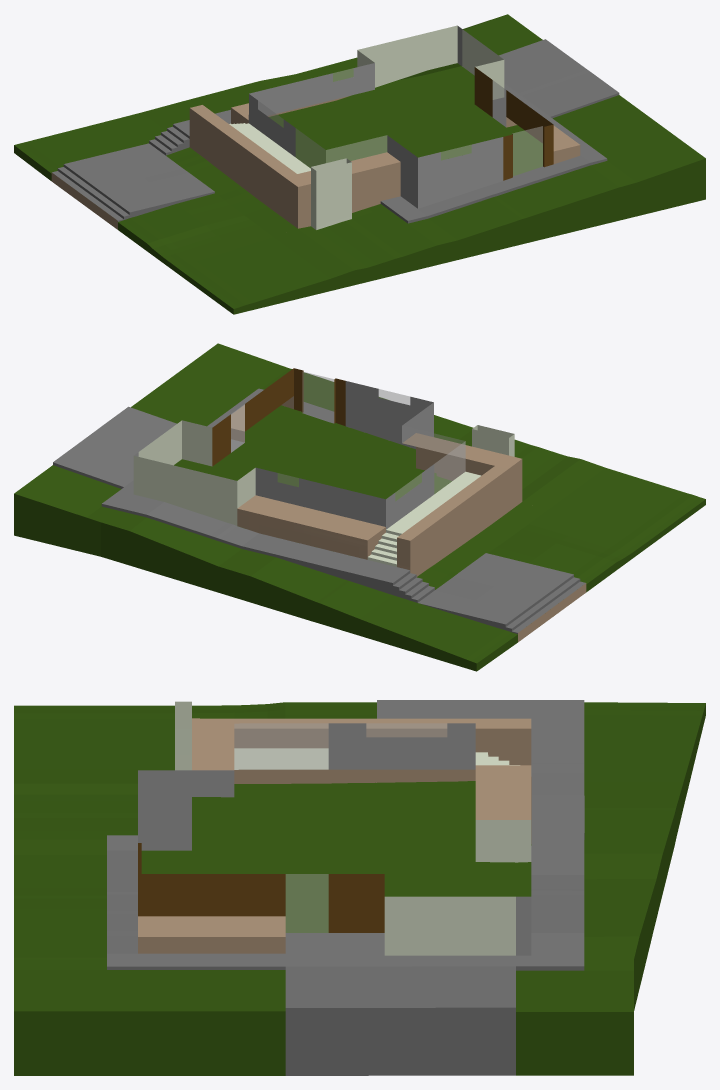
File: casaClim_2ND-FLOOR.glb
The picture shows the model from 3 angles, top to bottom: view 1: azimuth 30°, elevation 25°; view 2: azimuth 150°, elevation 25°; view 3: azimuth 270°, elevation 25°; orthographic projection. The views are drawn at different scales.
Visible parts, largest first — view 1: Plane; view 2: Plane; view 3: Plane.
Boxes of the visible parts, x1,y1,x2,y2 form: Plane: [14, 14, 705, 314]; Plane: [14, 343, 705, 671]; Plane: [14, 700, 705, 1075].
Size of the model in its own units: 27.7 by 4.13 by 22.42.
